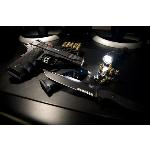Pistol: (6, 38, 85, 78)
